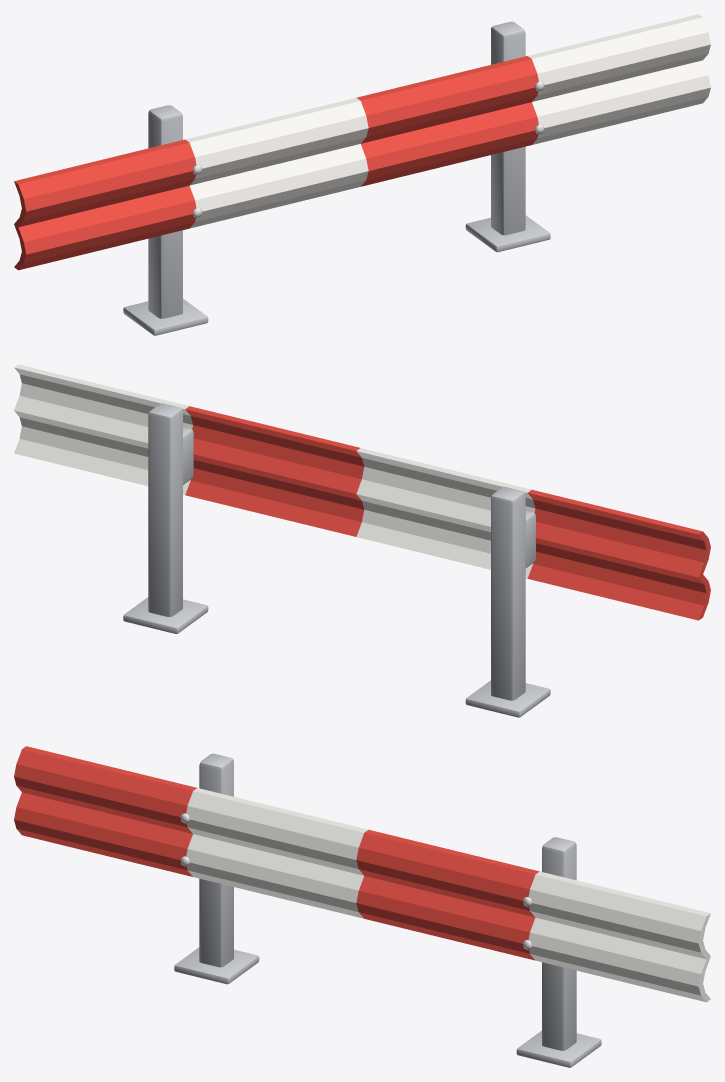
The model's file is barrier.glb.
3 renders of one model, top to bottom at view 1: azimuth 30°, elevation 25°; view 2: azimuth 150°, elevation 25°; view 3: azimuth 330°, elevation 25°, orthographic.
Parts seen in each view (by area): view 1: barrier; view 2: barrier; view 3: barrier.
Boxes of the visible parts, x1,y1,x2,y2 form: barrier: (14, 14, 710, 335); barrier: (14, 364, 710, 717); barrier: (14, 746, 710, 1067).
Bounding box in the file's own units: 2 × 0.58 × 0.2484.
